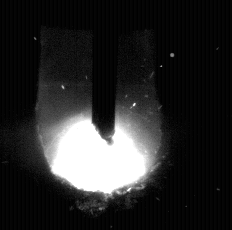arame: (93, 0, 117, 145)
poca: (34, 0, 163, 230)
